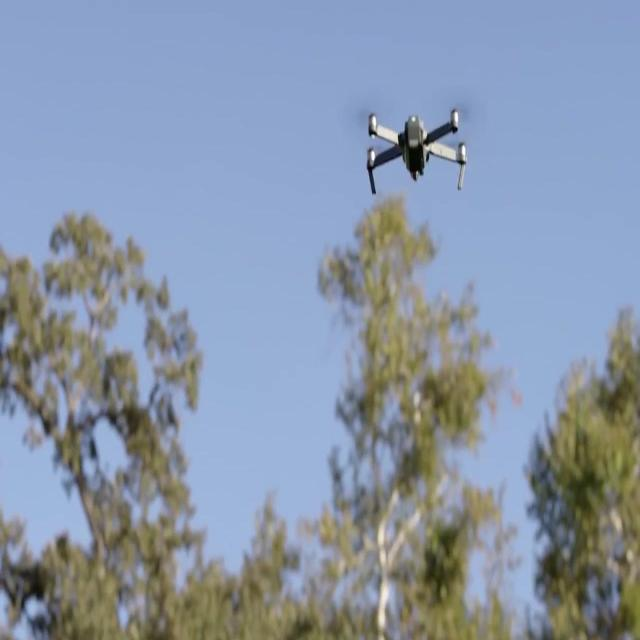drone: (365, 109, 468, 198)
